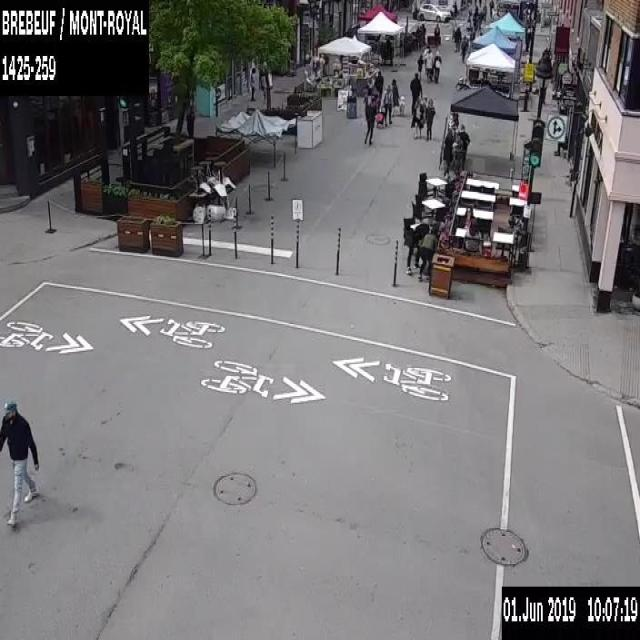pedestrian: (0, 397, 39, 527), (401, 220, 429, 273), (418, 232, 435, 282), (362, 95, 377, 144), (456, 123, 470, 172), (441, 126, 453, 182), (410, 69, 423, 117), (389, 78, 404, 114), (379, 84, 391, 128), (372, 69, 385, 109), (464, 218, 479, 252), (412, 95, 423, 137), (426, 98, 435, 140), (258, 70, 266, 104), (462, 204, 473, 228), (249, 65, 256, 99), (434, 48, 441, 82), (186, 104, 193, 137), (416, 53, 424, 80), (461, 35, 468, 64), (454, 27, 462, 52), (426, 49, 432, 81), (434, 23, 440, 45), (488, 0, 492, 17)
vehicle: (416, 1, 451, 22)
